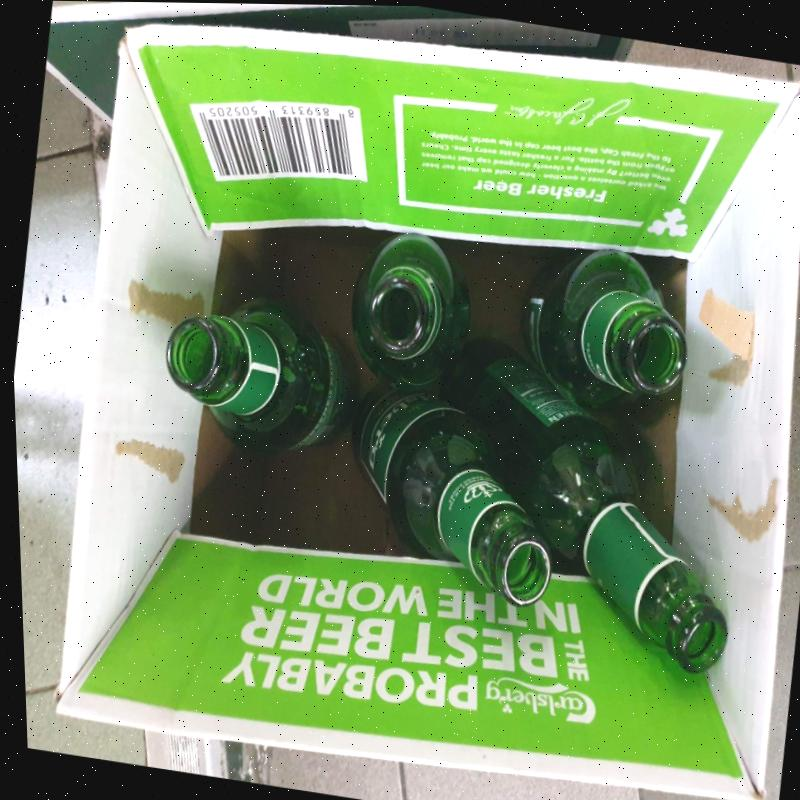glass bottle: (446, 337, 729, 673), (351, 381, 553, 605), (166, 295, 359, 456), (524, 247, 686, 410), (352, 231, 470, 390)
